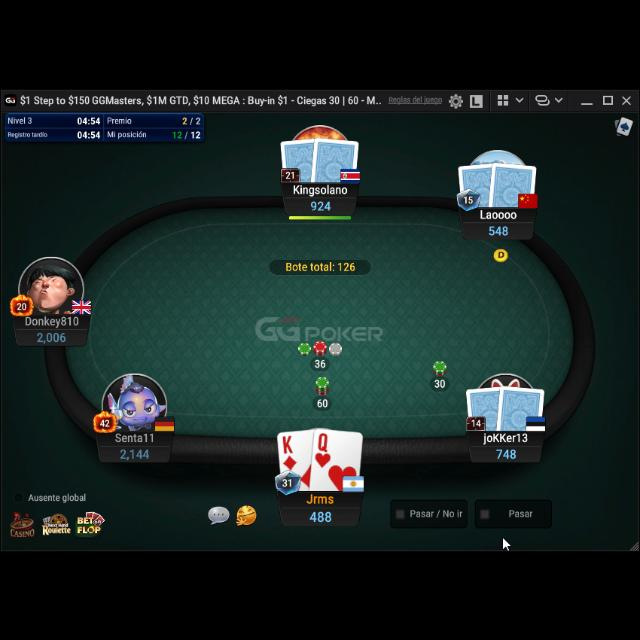Kd: (280, 433, 298, 471)
Qh: (314, 429, 332, 468)
bet_text: (315, 396, 333, 409), (432, 378, 448, 388), (314, 358, 326, 368)
card_back: (311, 134, 363, 188), (488, 160, 540, 210), (455, 160, 499, 208), (279, 136, 321, 182)
dealer: (492, 247, 510, 263)
pot_text: (285, 260, 357, 272)
stack_text: (36, 329, 68, 343), (119, 446, 151, 459), (494, 446, 520, 459), (310, 509, 334, 523), (488, 224, 512, 236), (310, 199, 332, 211)
